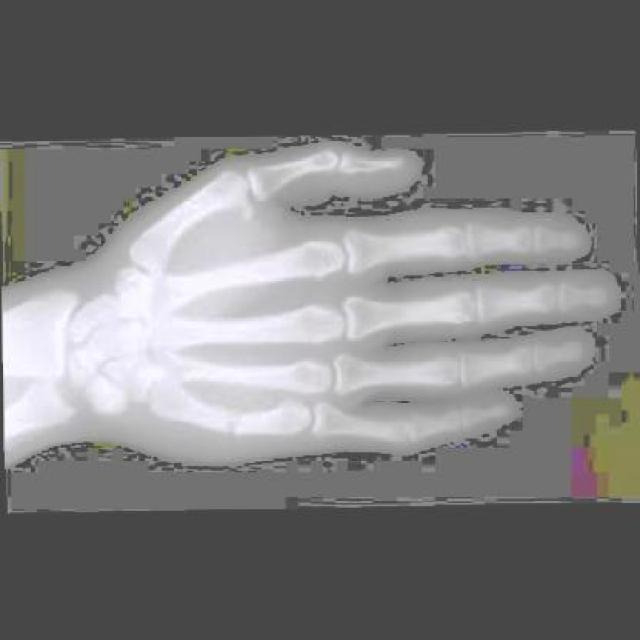Fracture: (216, 408, 256, 444)
